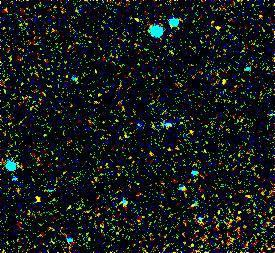star: (24, 187, 54, 217)
